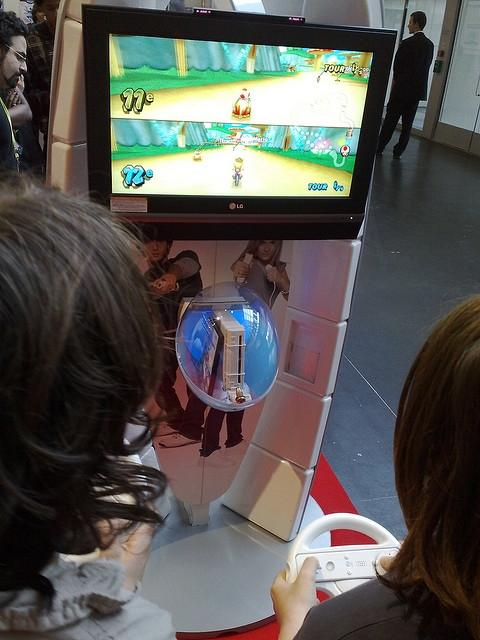mushroom: (228, 128, 246, 140), (341, 145, 350, 156)
